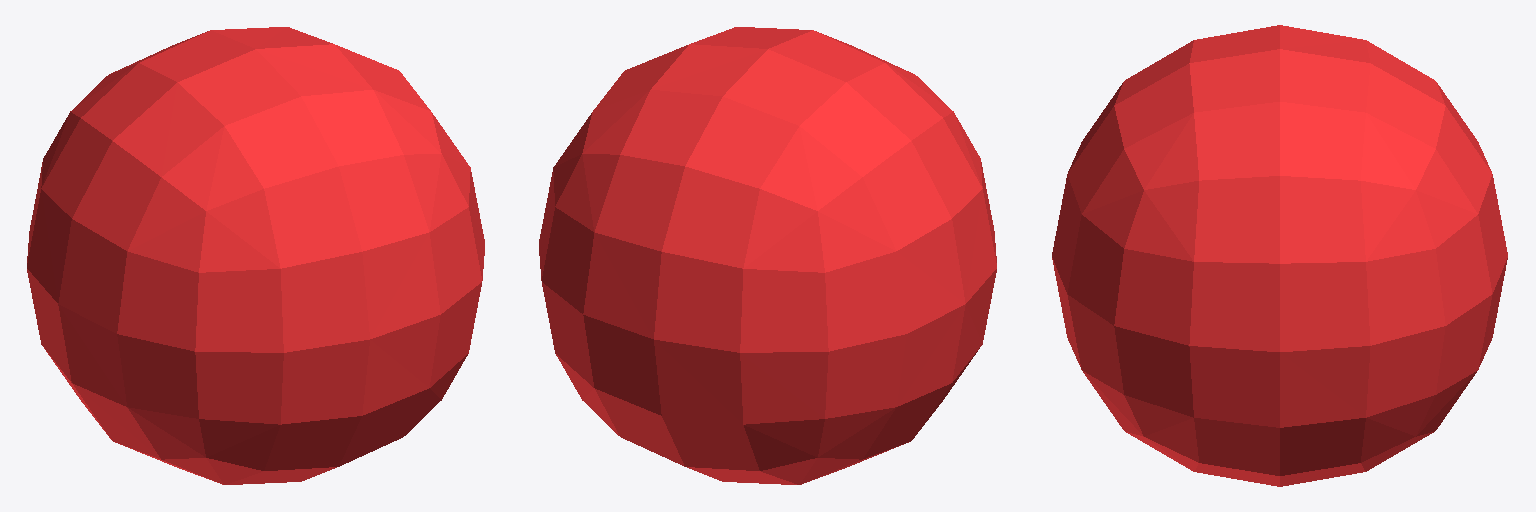
3 views of the same model, side by side, from view 1: azimuth 30°, elevation 25°; view 2: azimuth 150°, elevation 25°; view 3: azimuth 270°, elevation 25° (orthographic).
Parts seen in each view (by area): view 1: Cube; view 2: Cube; view 3: Cube.
Part boxes in pixels (bbox=[...]): Cube: bbox=[27, 27, 484, 484]; Cube: bbox=[539, 27, 996, 484]; Cube: bbox=[1052, 25, 1507, 486].
Bounding box in the file's own units: 5.04 × 5.04 × 5.04.
Materials: 1 (1 with a texture image).